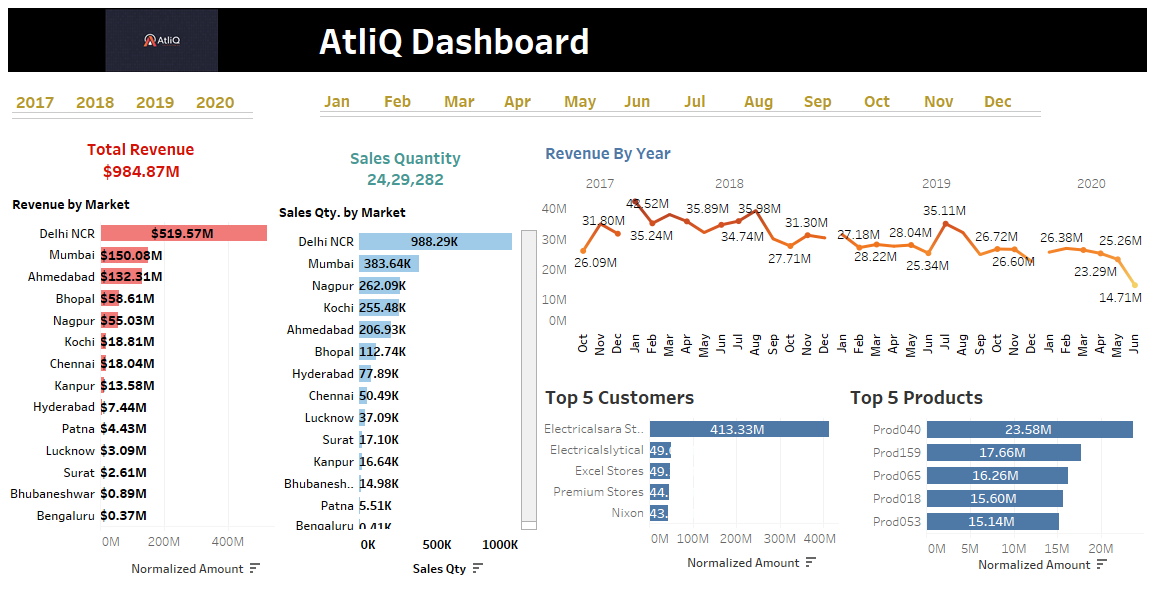

This screenshot's page, from the dashboard's own definition file:
{"tool":"tableau","page":{"name":"Dashboard - Revenue","canvas":[1000,1000],"units":"permille","ordinal":1},"visuals":[{"type":"image","param":"Image/maxresdefault.jpg","box":[6.9,13.5,266.7,108]},{"type":"text","box":[273.6,13.5,719.5,108]},{"type":"worksheet","title":"Year","mark":"Automatic","cols":["cy_date"],"box":[6.9,121.6,266.6,101.4]},{"type":"worksheet","title":"Month","mark":"Automatic","cols":["cy_date"],"box":[273.5,121.6,719.5,101.4]},{"type":"worksheet","title":"Revenue","mark":"Automatic","box":[6.9,222.9,231.1,96.3]},{"type":"worksheet","title":"Quantity","mark":"Automatic","box":[238,222.9,226.8,109.8]},{"type":"worksheet","title":"Revenue By Year","mark":"Automatic","rows":["Calculation_810929423181910016"],"cols":["cy_date","cy_date"],"box":[464.9,222.9,528.2,407.1]},{"type":"worksheet","title":"Revenue By Market","mark":"Automatic","rows":["markets_name"],"cols":["Calculation_810929423181910016"],"box":[6.9,319.2,231.1,667.2]},{"type":"worksheet","title":"Sales Quantity By Markets","mark":"Automatic","rows":["markets_name"],"cols":["sales_qty"],"box":[238,332.7,226.8,653.8]},{"type":"worksheet","title":"Top 5 Customers","mark":"Automatic","rows":["custmer_name"],"cols":["Calculation_810929423181910016"],"box":[464.9,630,264.1,356.5]},{"type":"worksheet","title":"Top 5 Products","mark":"Automatic","rows":["product_code (products)"],"cols":["Calculation_810929423181910016"],"box":[729,630,264.1,356.5]}]}

Visuals, with their boxes on the dashboard's canvas, which has no fixed pixel size, in thousandths of its width and height (x1, y1, x2, y2). These are canvas units, not pixel positions in the 1155x592 screenshot, which may show the page scaled, cropped or inside an application window:
image: (7,14,274,122)
text: (274,14,993,122)
"Year" worksheet: (7,122,274,223)
"Month" worksheet: (274,122,993,223)
"Revenue" worksheet: (7,223,238,319)
"Quantity" worksheet: (238,223,465,333)
"Revenue By Year" worksheet: (465,223,993,630)
"Revenue By Market" worksheet: (7,319,238,986)
"Sales Quantity By Markets" worksheet: (238,333,465,986)
"Top 5 Customers" worksheet: (465,630,729,986)
"Top 5 Products" worksheet: (729,630,993,986)
